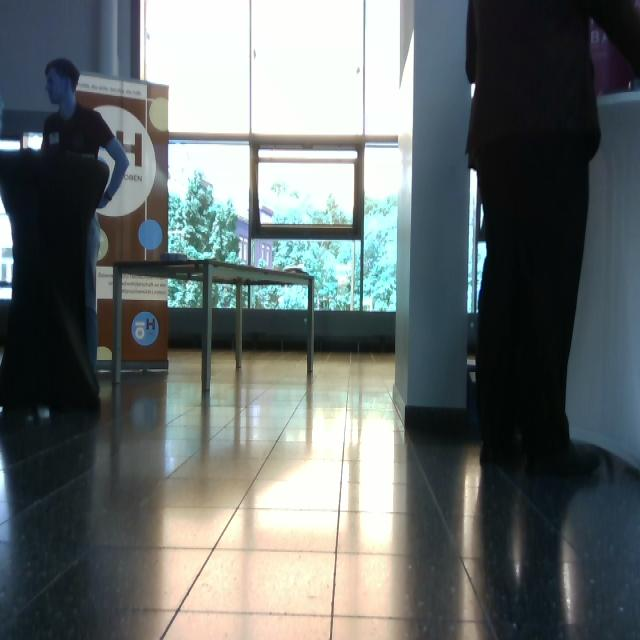light bulb: (138, 220, 163, 250), (23, 132, 44, 152), (97, 228, 109, 262), (258, 258, 267, 269)
person: (465, 1, 640, 477), (40, 57, 130, 381)
pillar: (397, 1, 473, 422)
table: (110, 256, 319, 397)
tiled floor: (2, 347, 639, 639)
window: (139, 1, 403, 317)
